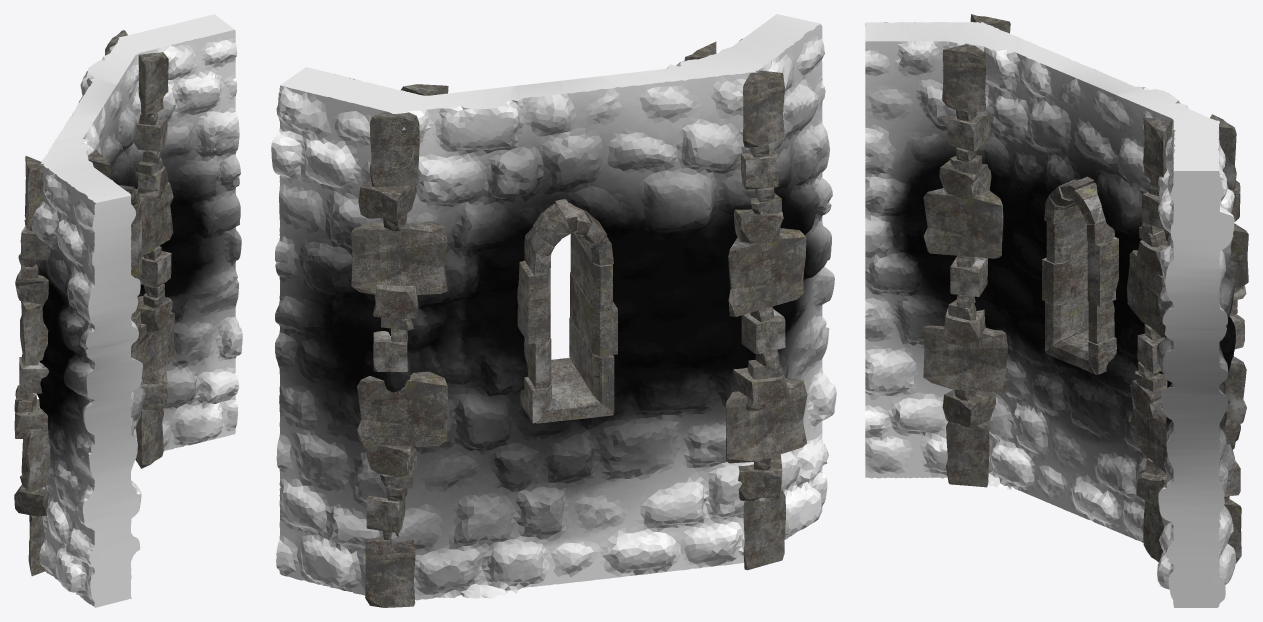
Rendered from SM_CastleTower_Window_A_12.fbx.
3 renders of one model, left to right at view 1: azimuth 30°, elevation 25°; view 2: azimuth 150°, elevation 25°; view 3: azimuth 270°, elevation 25°, orthographic. The views are drawn at different scales.
Parts seen in each view (by area): view 1: SM_CastleTower_Window_A_12_LOD0; view 2: SM_CastleTower_Window_A_12_LOD0; view 3: SM_CastleTower_Window_A_12_LOD0.
Part boxes in pixels (<box>): SM_CastleTower_Window_A_12_LOD0: <box>14,14,242,607</box>; SM_CastleTower_Window_A_12_LOD0: <box>271,14,836,607</box>; SM_CastleTower_Window_A_12_LOD0: <box>865,14,1248,607</box>.
Size of the model in its own units: 324 by 319 by 401.
